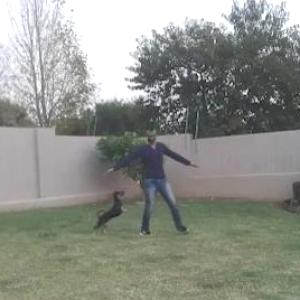land: (94, 125, 176, 223)
